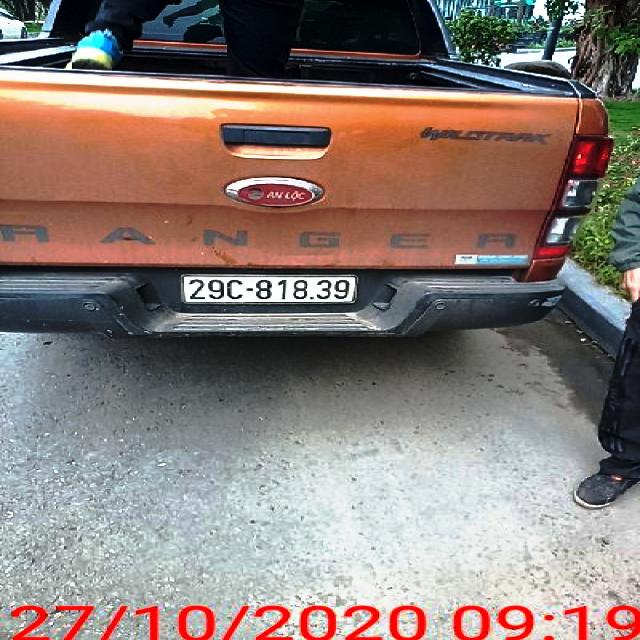license_plate: (184, 276, 357, 303)
